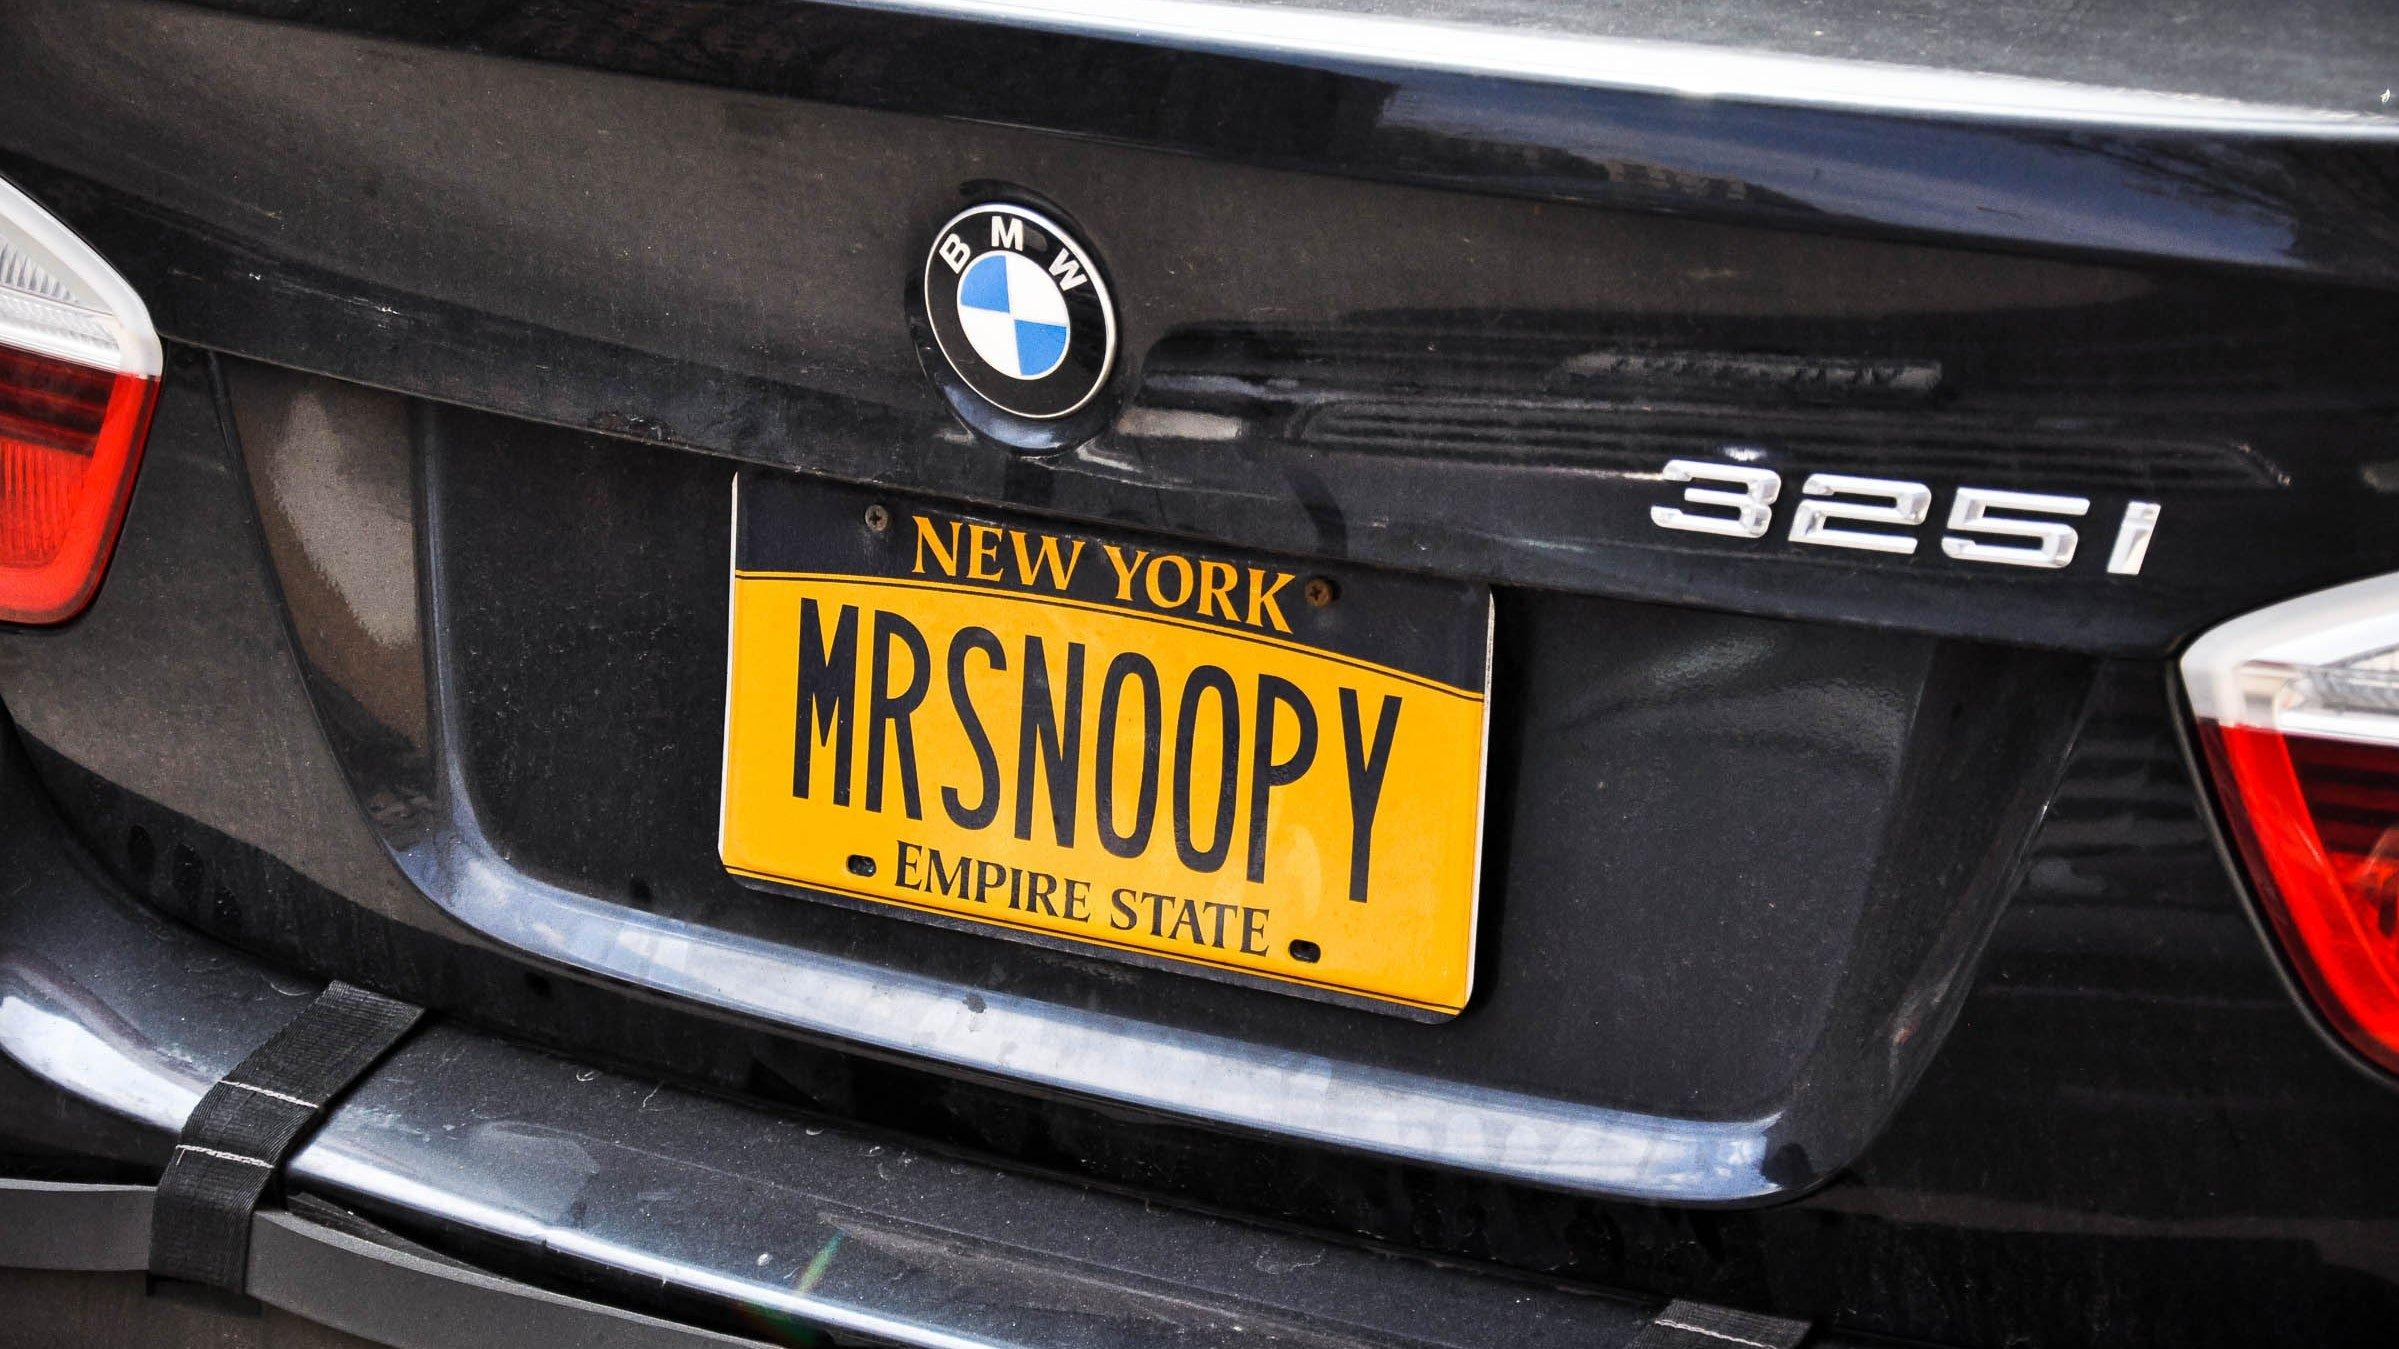Liscence Plate: (738, 478, 1481, 1028)
